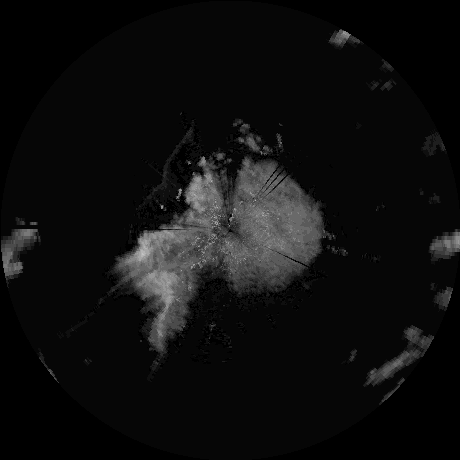frontgust: (135, 125, 190, 206)
